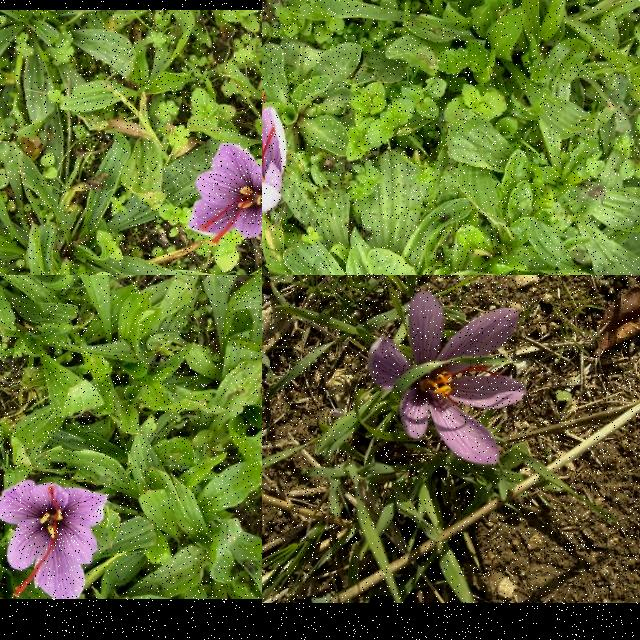flower: (368, 292, 526, 466), (0, 479, 108, 599), (186, 142, 262, 245), (262, 90, 288, 215)
